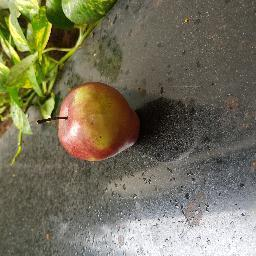Good_apple: (56, 82, 143, 166)
